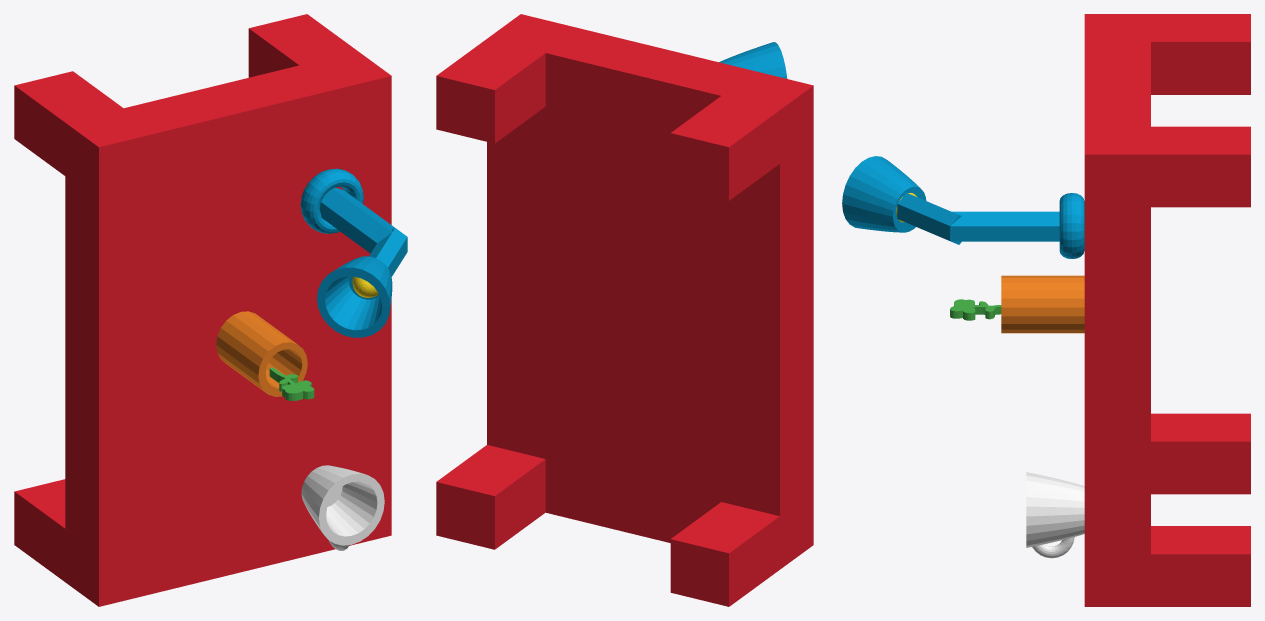
The model's file is tinker.obj.
The picture shows the model from 3 angles, left to right: view 1: azimuth 30°, elevation 25°; view 2: azimuth 150°, elevation 25°; view 3: azimuth 270°, elevation 25°; orthographic projection.
Visible parts, largest first — view 1: group_0_15277357, group_0_40919, group_0_16448250, group_0_16089887, group_0_4634441; view 2: group_0_15277357, group_0_40919; view 3: group_0_15277357, group_0_40919, group_0_16089887, group_0_16448250, group_0_4634441.
Boxes of the visible parts, x1=… form: group_0_15277357: x1=14, y1=14, x2=391, y2=606; group_0_40919: x1=300, y1=168, x2=407, y2=337; group_0_16448250: x1=301, y1=465, x2=384, y2=550; group_0_16089887: x1=216, y1=311, x2=307, y2=396; group_0_4634441: x1=269, y1=367, x2=314, y2=400; group_0_15277357: x1=436, y1=14, x2=813, y2=606; group_0_40919: x1=719, y1=42, x2=787, y2=78; group_0_15277357: x1=1084, y1=14, x2=1250, y2=606; group_0_40919: x1=842, y1=156, x2=1084, y2=258; group_0_16089887: x1=1001, y1=275, x2=1084, y2=333; group_0_16448250: x1=1026, y1=472, x2=1084, y2=558; group_0_4634441: x1=950, y1=299, x2=1001, y2=320.
Size of the model in its own units: 40 by 60 by 49.14.
